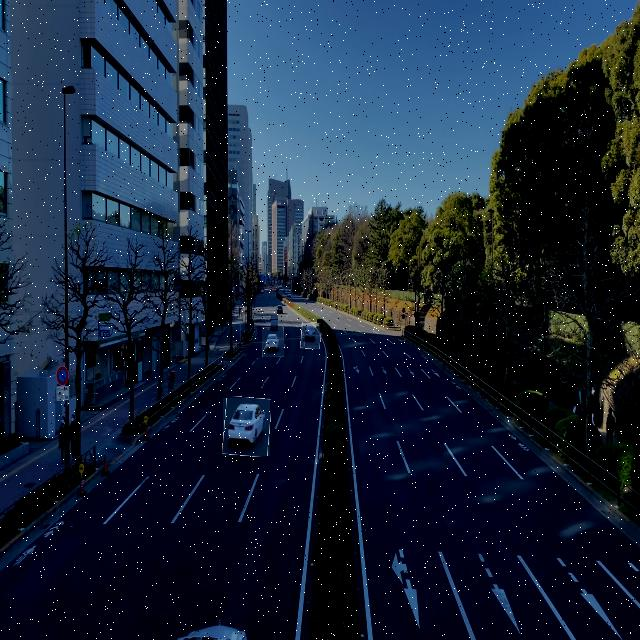Car: (223, 398, 270, 456), (262, 327, 284, 357), (301, 323, 320, 349)
